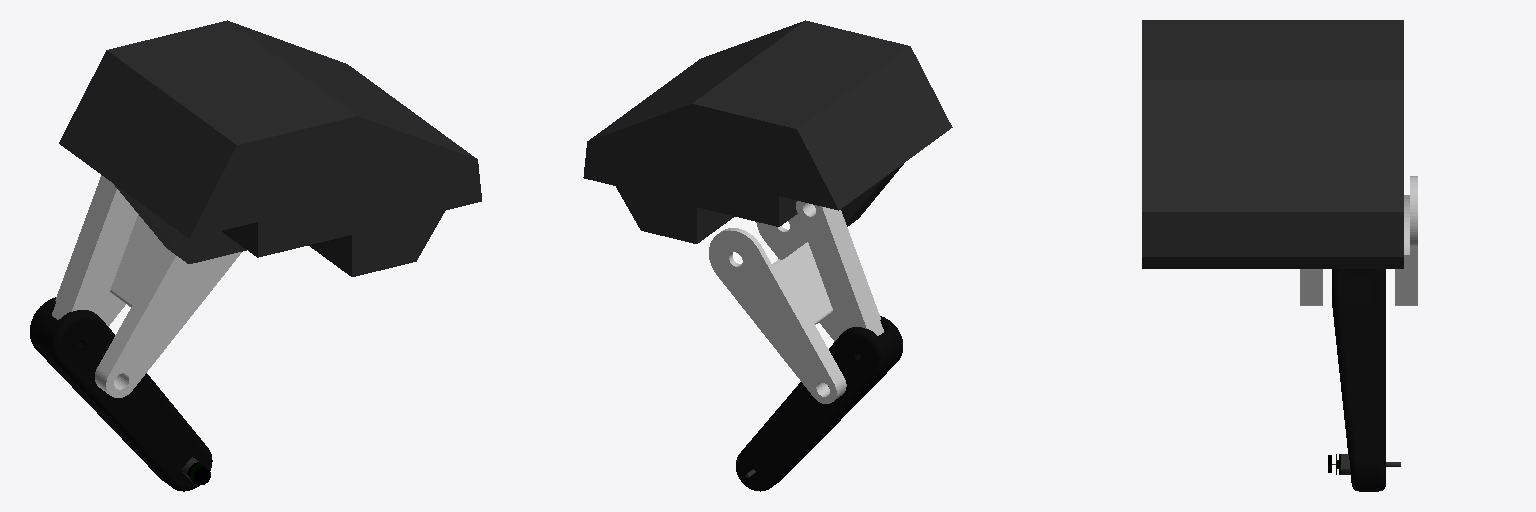
URDF robot description (echo_bot):
<?xml version="1.0" encoding="utf-8"?>
<!-- =================================================================================== -->
<!-- |    This document was autogenerated by xacro from echo_bot.urdf.xacro            | -->
<!-- |    EDITING THIS FILE BY HAND IS NOT RECOMMENDED                                 | -->
<!-- =================================================================================== -->
<robot name="echo_bot">
  <!-- == echo_bot base == -->
  <link name="base_link"/>
  <link name="torso_link">
    <visual>
      <origin rpy="0 0 0" xyz="0 0 0"/>
      <geometry>
        <mesh filename="package://echo_bot_description/meshes/DAE/torso.dae"/>
      </geometry>
    </visual>
    <collision>
      <origin rpy="0 0 0" xyz="0 0 0"/>
      <geometry>
        <mesh filename="package://echo_bot_description/meshes/STL/torso.stl"/>
      </geometry>
    </collision>
    <inertial>
      <inertia ixx="0.006594" ixy="0.0" ixz="0.000999" iyy="0.007405" iyz="0.0" izz="0.010608"/>
      <mass value="2.915"/>
      <origin rpy="0 0 0" xyz="0.025 0 0.053"/>
    </inertial>
  </link>
  <link name="torso_back_left"/>
  <!-- <link name="torso_back_right"/> -->
  <joint name="torso_link_to_torso_back_left" type="fixed">
    <origin xyz="-0.04 0.0475 0.035"/>
    <parent link="torso_link"/>
    <child link="torso_back_left"/>
  </joint>
  <!-- <joint name="torso_link_to_torso_back_right" type="fixed">
      <origin xyz="-0.04 -0.0475 0.035"/>
      <parent link="torso_link"/>
      <child link="torso_back_right"/>
    </joint> -->
  <joint name="base_link_to_torso_link" type="fixed">
    <origin rpy="0 0 0" xyz="0 0 0"/>
    <parent link="base_link"/>
    <child link="torso_link"/>
  </joint>
  <!-- <link name="world"/>
  <xacro:torso_v0 parent="world">
  <origin xyz="0 0 0.20"/>
  </xacro:torso_v0> -->
  <!-- <link name="base_footprint"/>
  <joint name="base_link_to_base_footprint_joint" type="fixed">
    <origin xyz="0 0 0.090"/>
    <parent link="base_link"/>
    <child link="base_footprint"/>
  </joint> -->
  <!-- Link -->
  <link name="upper_lleg_link">
    <visual>
      <origin rpy="0 0 0" xyz="0 0 0"/>
      <geometry>
        <mesh filename="package://echo_bot_description/meshes/DAE/upper_leg.dae"/>
      </geometry>
    </visual>
    <collision>
      <origin rpy="0 0 0" xyz="0 0 0"/>
      <geometry>
        <mesh filename="package://echo_bot_description/meshes/STL/upper_leg.stl"/>
      </geometry>
    </collision>
    <inertial>
      <inertia ixx="0.000311" ixy="0.0" ixz="0.000001" iyy="0.000394" iyz="0.0" izz="0.000622"/>
      <mass value="0.5"/>
      <origin rpy="0 0 0" xyz="0.045 0 -0.001"/>
    </inertial>
  </link>
  <link name="lower_lleg_link">
    <visual>
      <origin rpy="0 0 0" xyz="0 0 0"/>
      <geometry>
        <mesh filename="package://echo_bot_description/meshes/DAE/lower_lleg.dae"/>
      </geometry>
    </visual>
    <collision>
      <origin rpy="0 0 0" xyz="0 0 0"/>
      <geometry>
        <mesh filename="package://echo_bot_description/meshes/STL/lower_lleg.stl"/>
      </geometry>
    </collision>
    <inertial>
      <inertia ixx="0.000151" ixy="-0.000041" ixz="-0.000004" iyy="0.000795" iyz="0.0" izz="0.000777"/>
      <mass value="0.5"/>
      <origin rpy="0 0 0" xyz="0.058 0.001 -0.001"/>
    </inertial>
  </link>
  <link name="upper_side_lleg_link">
    <visual>
      <origin rpy="0 0 0" xyz="0 0 0"/>
      <material name="leg_color_0"/>
      <geometry>
        <mesh filename="package://echo_bot_description/meshes/DAE/upper_side_leg.dae"/>
      </geometry>
    </visual>
    <collision>
      <origin rpy="0 0 0" xyz="0 0 0"/>
      <geometry>
        <mesh filename="package://echo_bot_description/meshes/STL/upper_side_leg.stl"/>
      </geometry>
    </collision>
    <inertial>
      <inertia ixx="0.000018" ixy="0.0" ixz="0.0" iyy="0.000316" iyz="0.0" izz="0.000314"/>
      <mass value="0.5"/>
      <origin rpy="0 0 0" xyz="0.05 0 0"/>
    </inertial>
  </link>
  <!-- Joint -->
  <joint name="torso_to_upper_lleg" type="revolute">
    <origin rpy="0.0 2.27 0.0" xyz="0.0 0.0475 0.0"/>
    <parent link="torso_link"/>
    <child link="upper_lleg_link"/>
    <axis xyz="0 1 0"/>
    <limit effort="5" lower="0.0" upper="0.52359879" velocity="3.14159274"/>
    <dynamics damping="0.1"/>
  </joint>
  <transmission name="torso_to_upper_lleg_trans">
    <type>transmission_interface/SimpleTransmission</type>
    <joint name="torso_to_upper_lleg">
      <hardwareInterface>hardware_interface/EffortJointInterface</hardwareInterface>
    </joint>
    <actuator name="torso_to_upper_lleg_motor">
      <hardwareInterface>hardware_interface/EffortJointInterface</hardwareInterface>
      <mechanicalReduction>1</mechanicalReduction>
    </actuator>
  </transmission>
  <joint name="upper_lleg_to_lower_lleg" type="continuous">
    <origin rpy="0.0 -1.36 0.0" xyz="0.1 0.0 0.0"/>
    <parent link="upper_lleg_link"/>
    <child link="lower_lleg_link"/>
    <axis xyz="0 1 0"/>
    <!-- <mimic joint="upper_${prefix}leg_link_joint" multiplier="-2.186" offset="-0.02025"/> -->
  </joint>
  <joint name="lower_lleg_to_upper_side_lleg" type="continuous">
    <origin rpy="0.0 -2.08 0.0" xyz="-0.025 0.0 0.0"/>
    <parent link="lower_lleg_link"/>
    <child link="upper_side_lleg_link"/>
    <axis xyz="0 1 0"/>
    <!-- <mimic joint="upper_${prefix}leg_link_joint" multiplier="2.123937" offset="0.003625"/> -->
  </joint>
  <!-- == right_leg == -->
  <!-- <xacro:leg_v0 parent="torso_link" prefix="r">
    <origin xyz="0.0 -0.0475 0.0" rpy="0.0 ${M_PI*160/180} 0.0"/>
  </xacro:leg_v0> -->
  <!-- == left_wheel == -->
  <!-- <xacro:wheel_v0 prefix="l" parent="lower_lleg_link">
    <origin xyz="0.1 0.0305 0.0" rpy="${-M_PI/2} 0.0 0.0"/>
    <axis xyz="0 0 1"/>
  </xacro:wheel_v0> -->
  <!-- == right_wheel == -->
  <!-- <xacro:wheel_v0 prefix="r" parent="lower_rleg_link">
    <origin xyz="0.1 -0.0305 0.0" rpy="${-M_PI/2} 0.0 0.0"/>
    <axis xyz="0 0 1"/>
  </xacro:wheel_v0> -->
  <!-- == Sensor == -->
  <!-- == Gazebo == -->
  <!-- <gazebo>
    <plugin name="gazebo_ros_control" filename="libgazebo_ros_control.so">
      <robotNamespace>echo_bot</robotNamespace>
      <robotSimType>gazebo_ros_control/DefaultRobotHWSim</robotSimType>
      <legacyModeNS>true</legacyModeNS>
    </plugin>
  </gazebo> -->
  <!-- <plugin name="joint_state_publisher" filename="libgazebo_ros_joint_state_publisher.so">
    <robotNamespace>echo_bot</robotNamespace>
    <jointName>torso_to_upper_lleg, torso_to_upper_rleg, upper_lleg_to_lower_lleg, upper_rleg_to_lower_rleg, lower_lleg_to_upper_side_lleg, lower_rleg_to_upper_side_rleg, lower_lleg_to_wheel_l, lower_rleg_to_wheel_r</jointName>
    <jointName>torso_to_upper_lleg</jointName>
  </plugin> -->
  <!-- Base -->
  <!-- <xacro:torso_gazebo_v0/> -->
  <!-- leg -->
  <!-- <xacro:leg_gazebo_v0 prefix="l"/> -->
  <!-- <xacro:leg_gazebo_v0 prefix="r"/> -->
  <!-- Wheel -->
  <!-- <xacro:wheel_gazebo_v0 prefix="l"/> -->
  <!-- <xacro:wheel_gazebo_v0 prefix="r"/> -->
</robot>

--- Facts derived from the render (not from the file) ---
Views: 3 orthographic renders of the robot side by side, from view 1: azimuth 30°, elevation 25°; view 2: azimuth 150°, elevation 25°; view 3: azimuth 270°, elevation 25°.
Robot: echo_bot — 6 links, 5 joints (1 revolute, 2 continuous, 2 fixed); root link base_link; default pose: every joint at zero.
Links seen in each view (by area): view 1: torso_link, lower_lleg_link, upper_lleg_link, upper_side_lleg_link; view 2: torso_link, upper_lleg_link, lower_lleg_link, upper_side_lleg_link; view 3: torso_link, lower_lleg_link, upper_lleg_link.
Link boxes in pixels (box(x1,y1,x2,y2)): torso_link: box(59, 20, 481, 276); lower_lleg_link: box(30, 297, 212, 491); upper_lleg_link: box(95, 214, 241, 397); upper_side_lleg_link: box(52, 175, 137, 319); torso_link: box(583, 20, 952, 243); upper_lleg_link: box(709, 214, 846, 403); lower_lleg_link: box(736, 316, 902, 491); upper_side_lleg_link: box(796, 201, 883, 335); torso_link: box(1142, 20, 1403, 268); lower_lleg_link: box(1328, 269, 1400, 491); upper_lleg_link: box(1300, 176, 1417, 305).
Bounding box of the posed robot: 0.2144 × 0.1525 × 0.2688 m (x, y, z).
4 mesh visuals loaded from 4 distinct referenced files (4 Collada DAE).